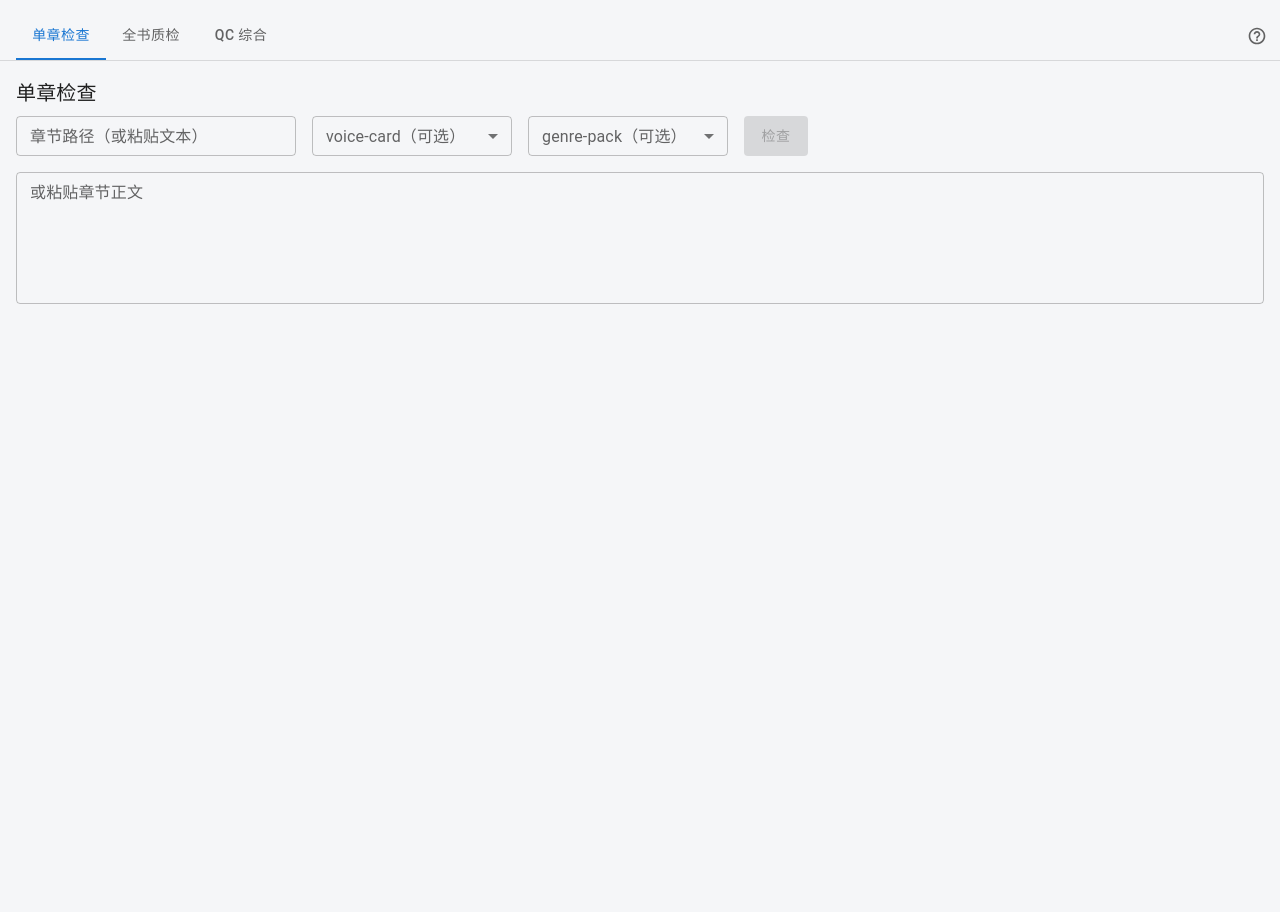
Test: BookQualityPanel 截断提示 › 响应被截断（61 条 / 上限 50）时，提示同时给出可见条数与响应上限
Click the tab "全书质检" at (151, 36), box [106,12,196,60]
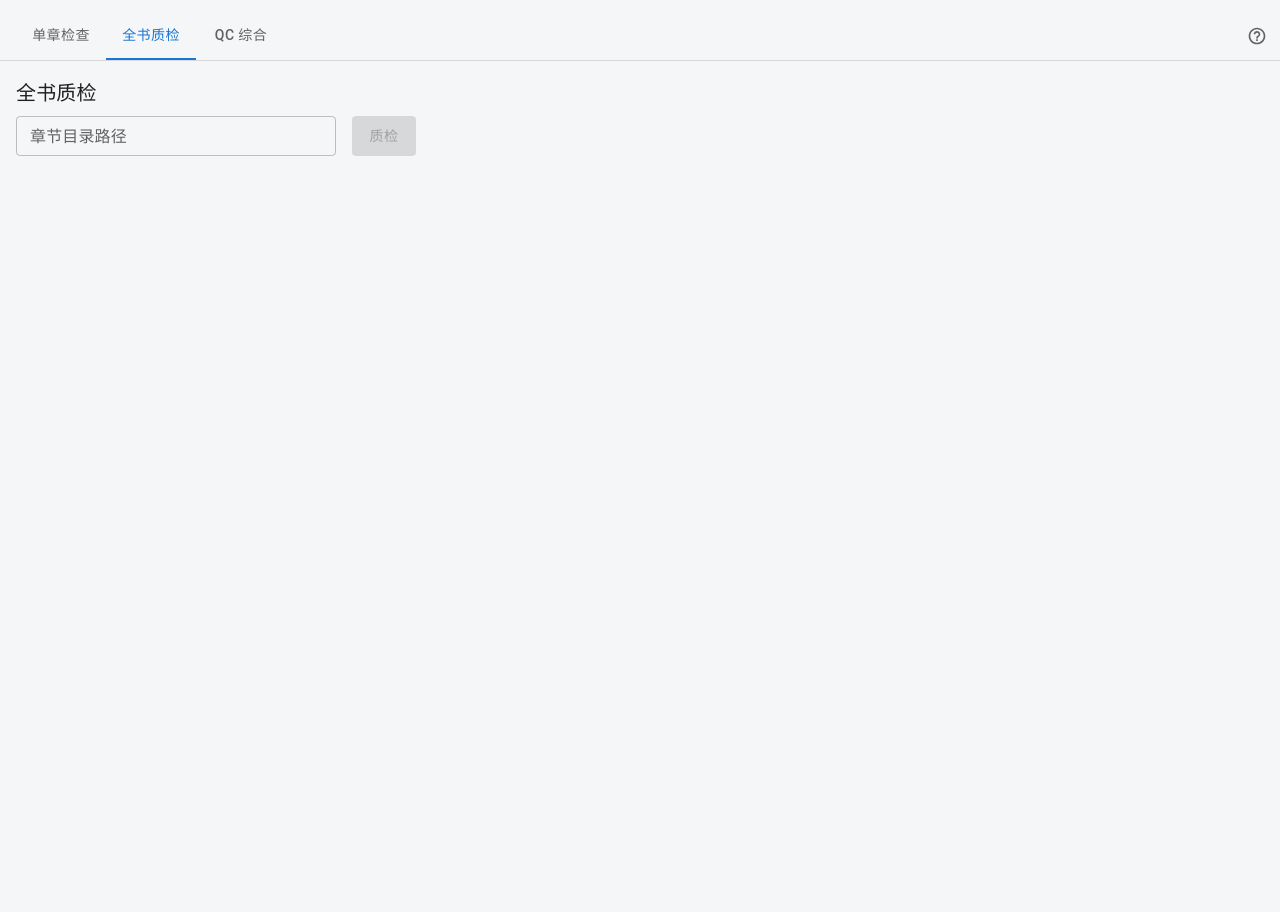
Type "chapters" into the field labelled "章节目录路径" at (176, 136), box [16,116,336,156]
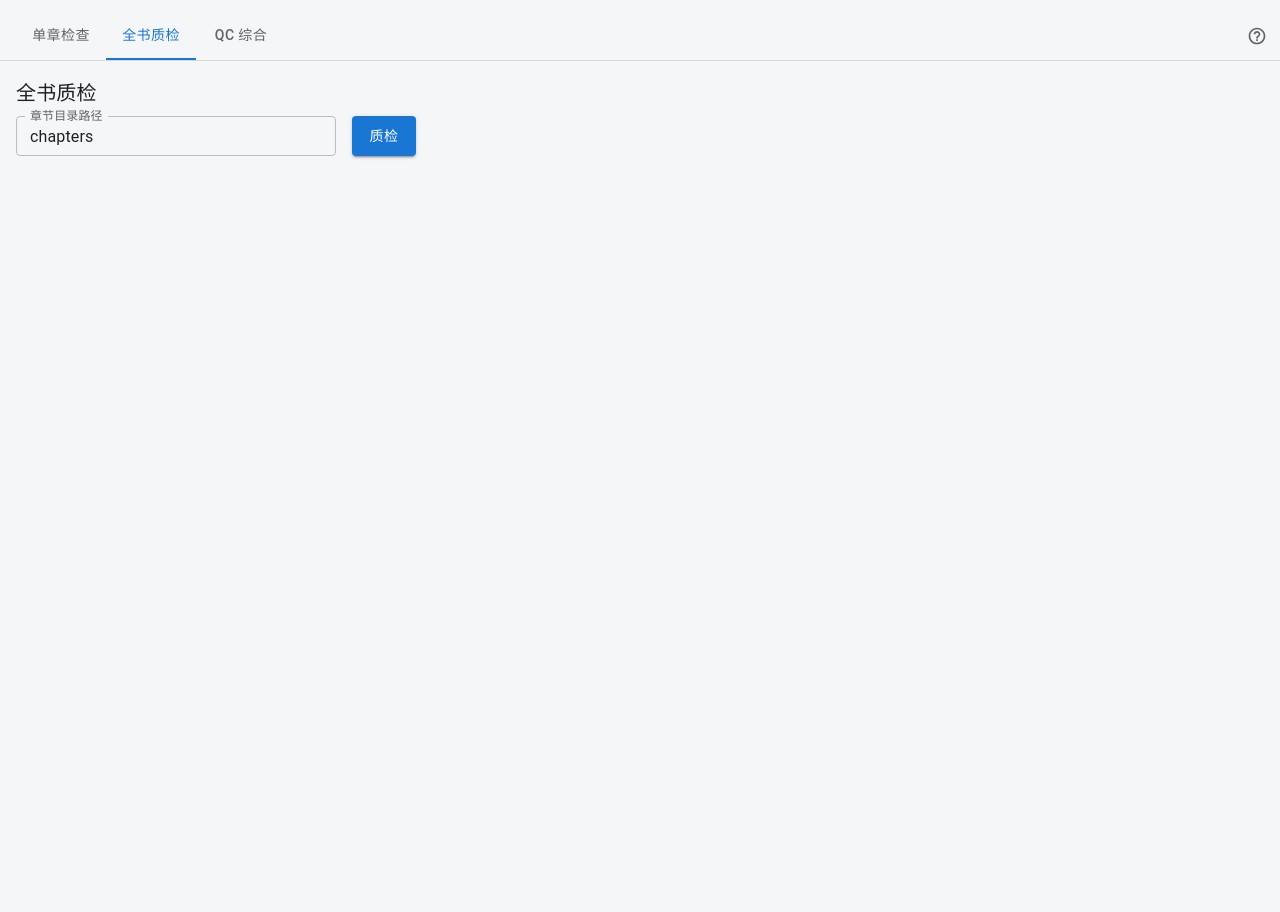
Click the button "质检" at (384, 136), box [352,116,416,156]
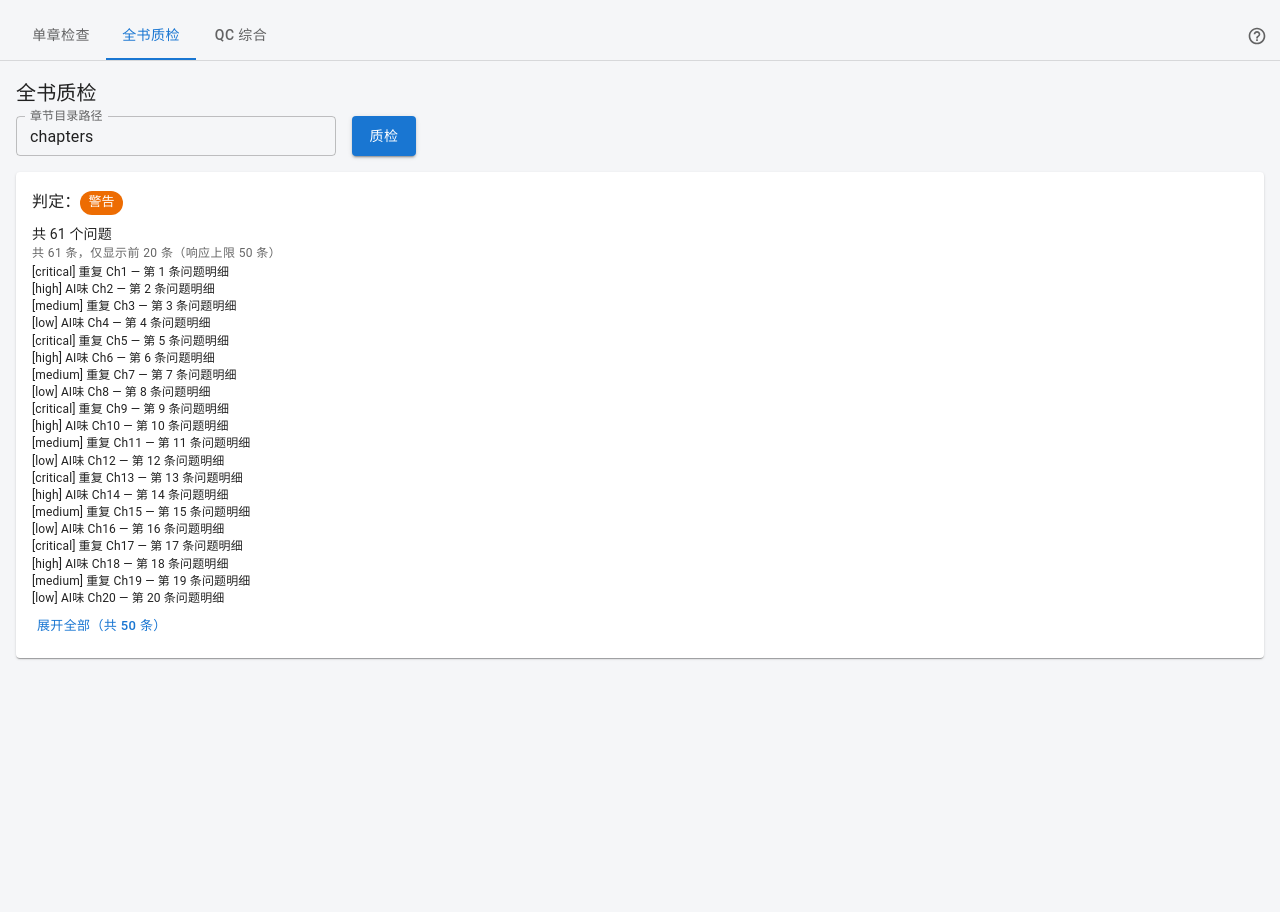
Check: the text "共 61 个问题" is shown, box [32,226,112,242]
Check: the text "共 61 条，仅显示前 20 条（响应上限 50 条）" is shown, box [32,246,281,260]
Check: the text "[critical] 重复 Ch1 — 第 1 条问题明细" is shown 20 times
